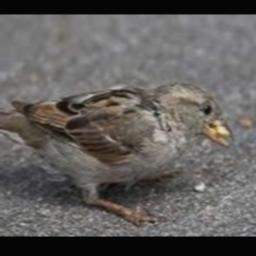Sparrow: (0, 82, 235, 225)
